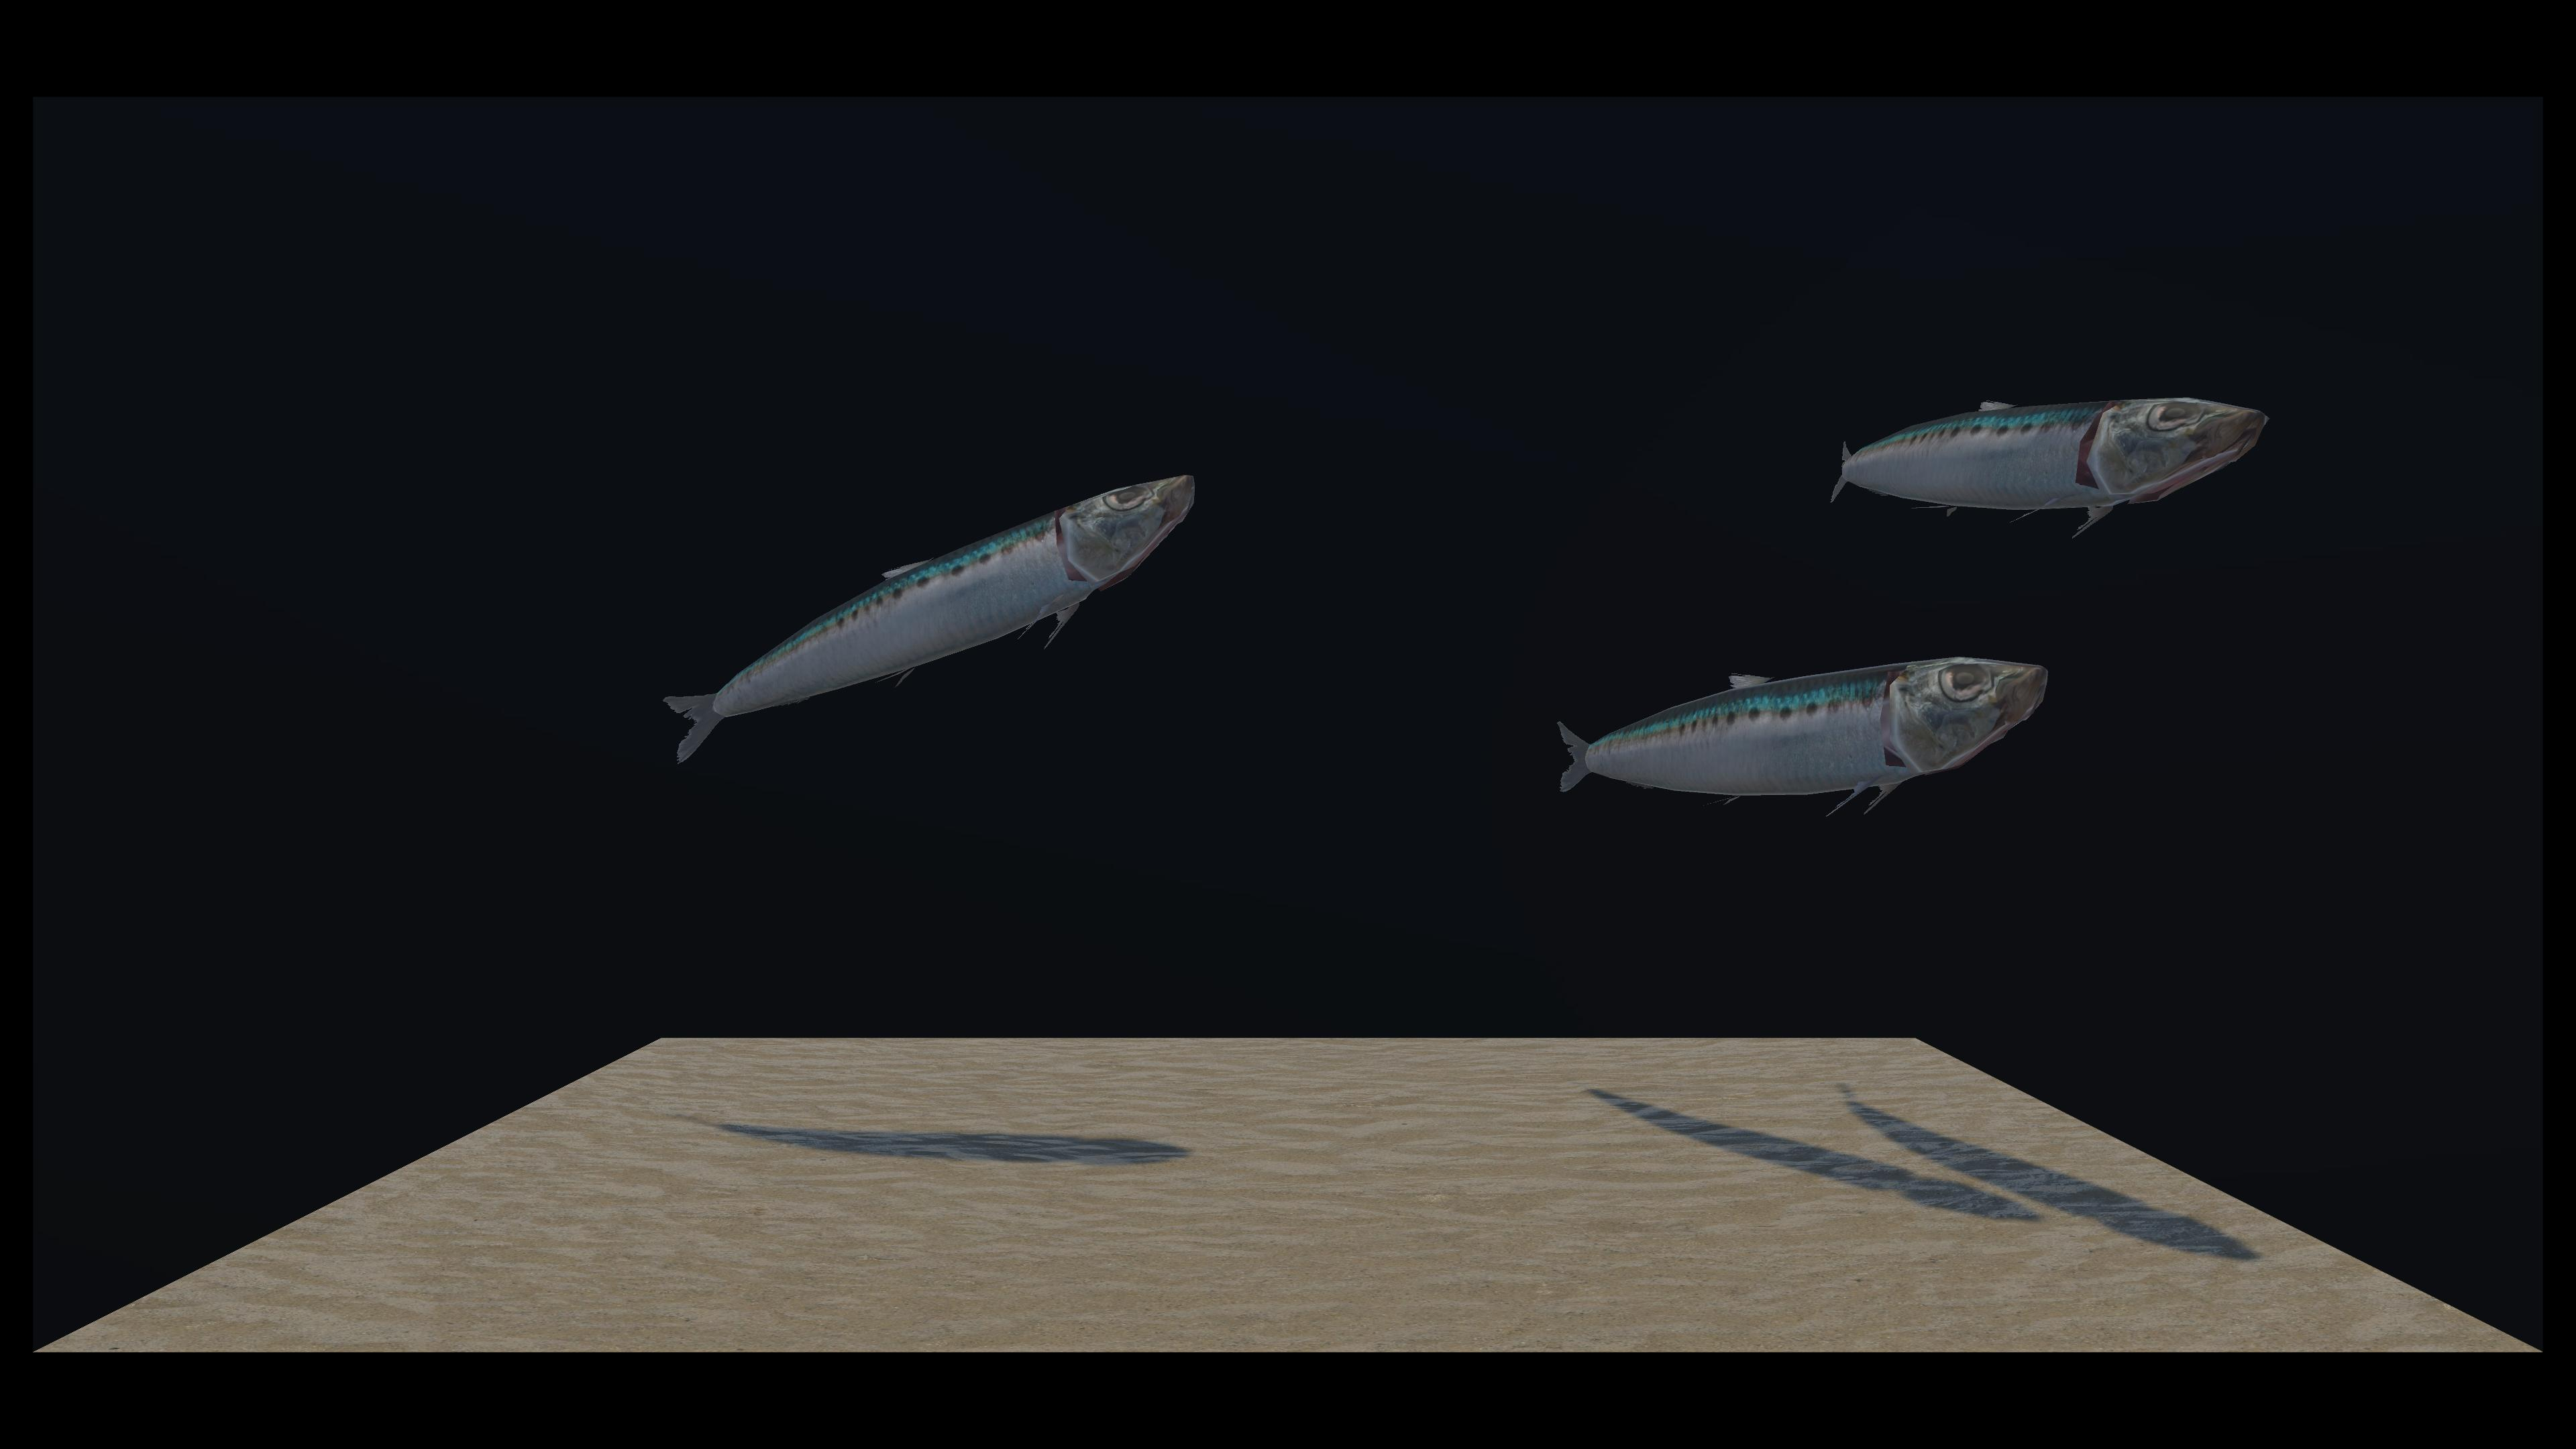Sardine_Front: (809, 410, 2038, 821), (828, 393, 2256, 550), (665, 476, 1185, 761)
